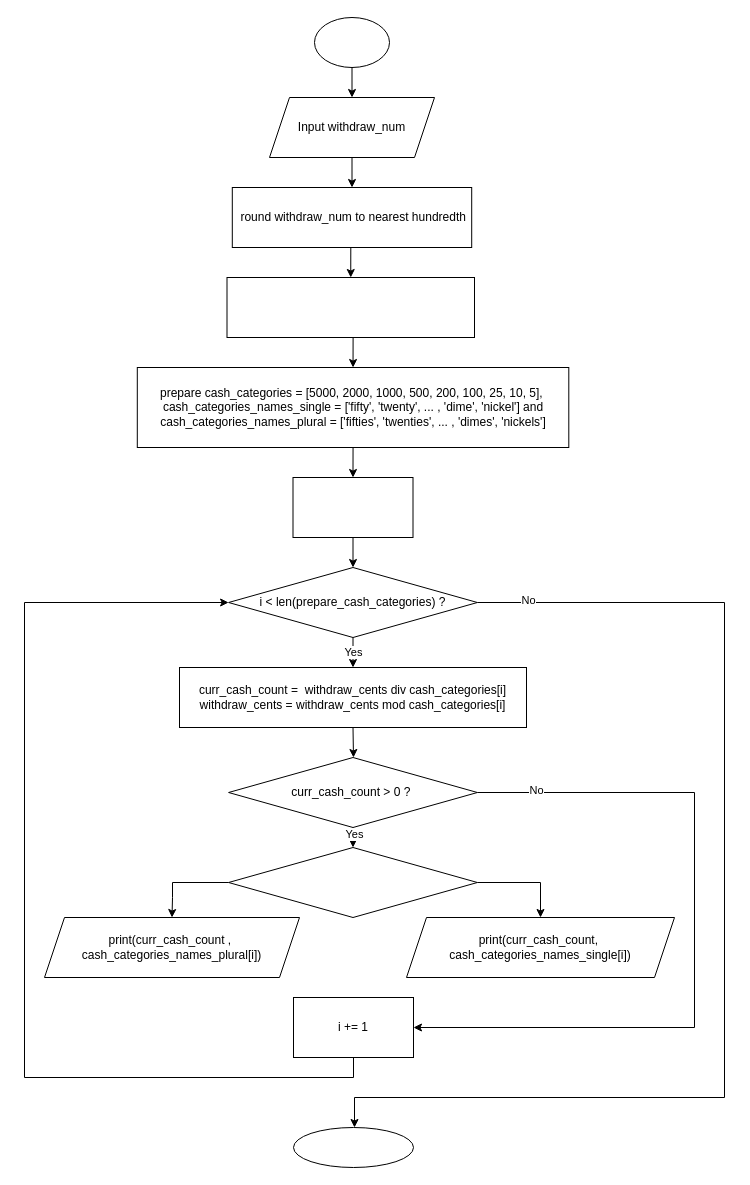
The diagram is 750 pixels wide and 1185 high, and some of its shapes have lost their labels. The centre of each missing label's shape, as x and y in pixels:
"curr_cash_count > 1 ?" belongs at (x=352, y=882).
"End" belongs at (x=353, y=1147).
"Initialize iterative value i = 0" belongs at (x=352, y=507).
"Start" belongs at (x=352, y=42).
"withdraw_cents = withdraw_num * 100" belongs at (x=350, y=307).
